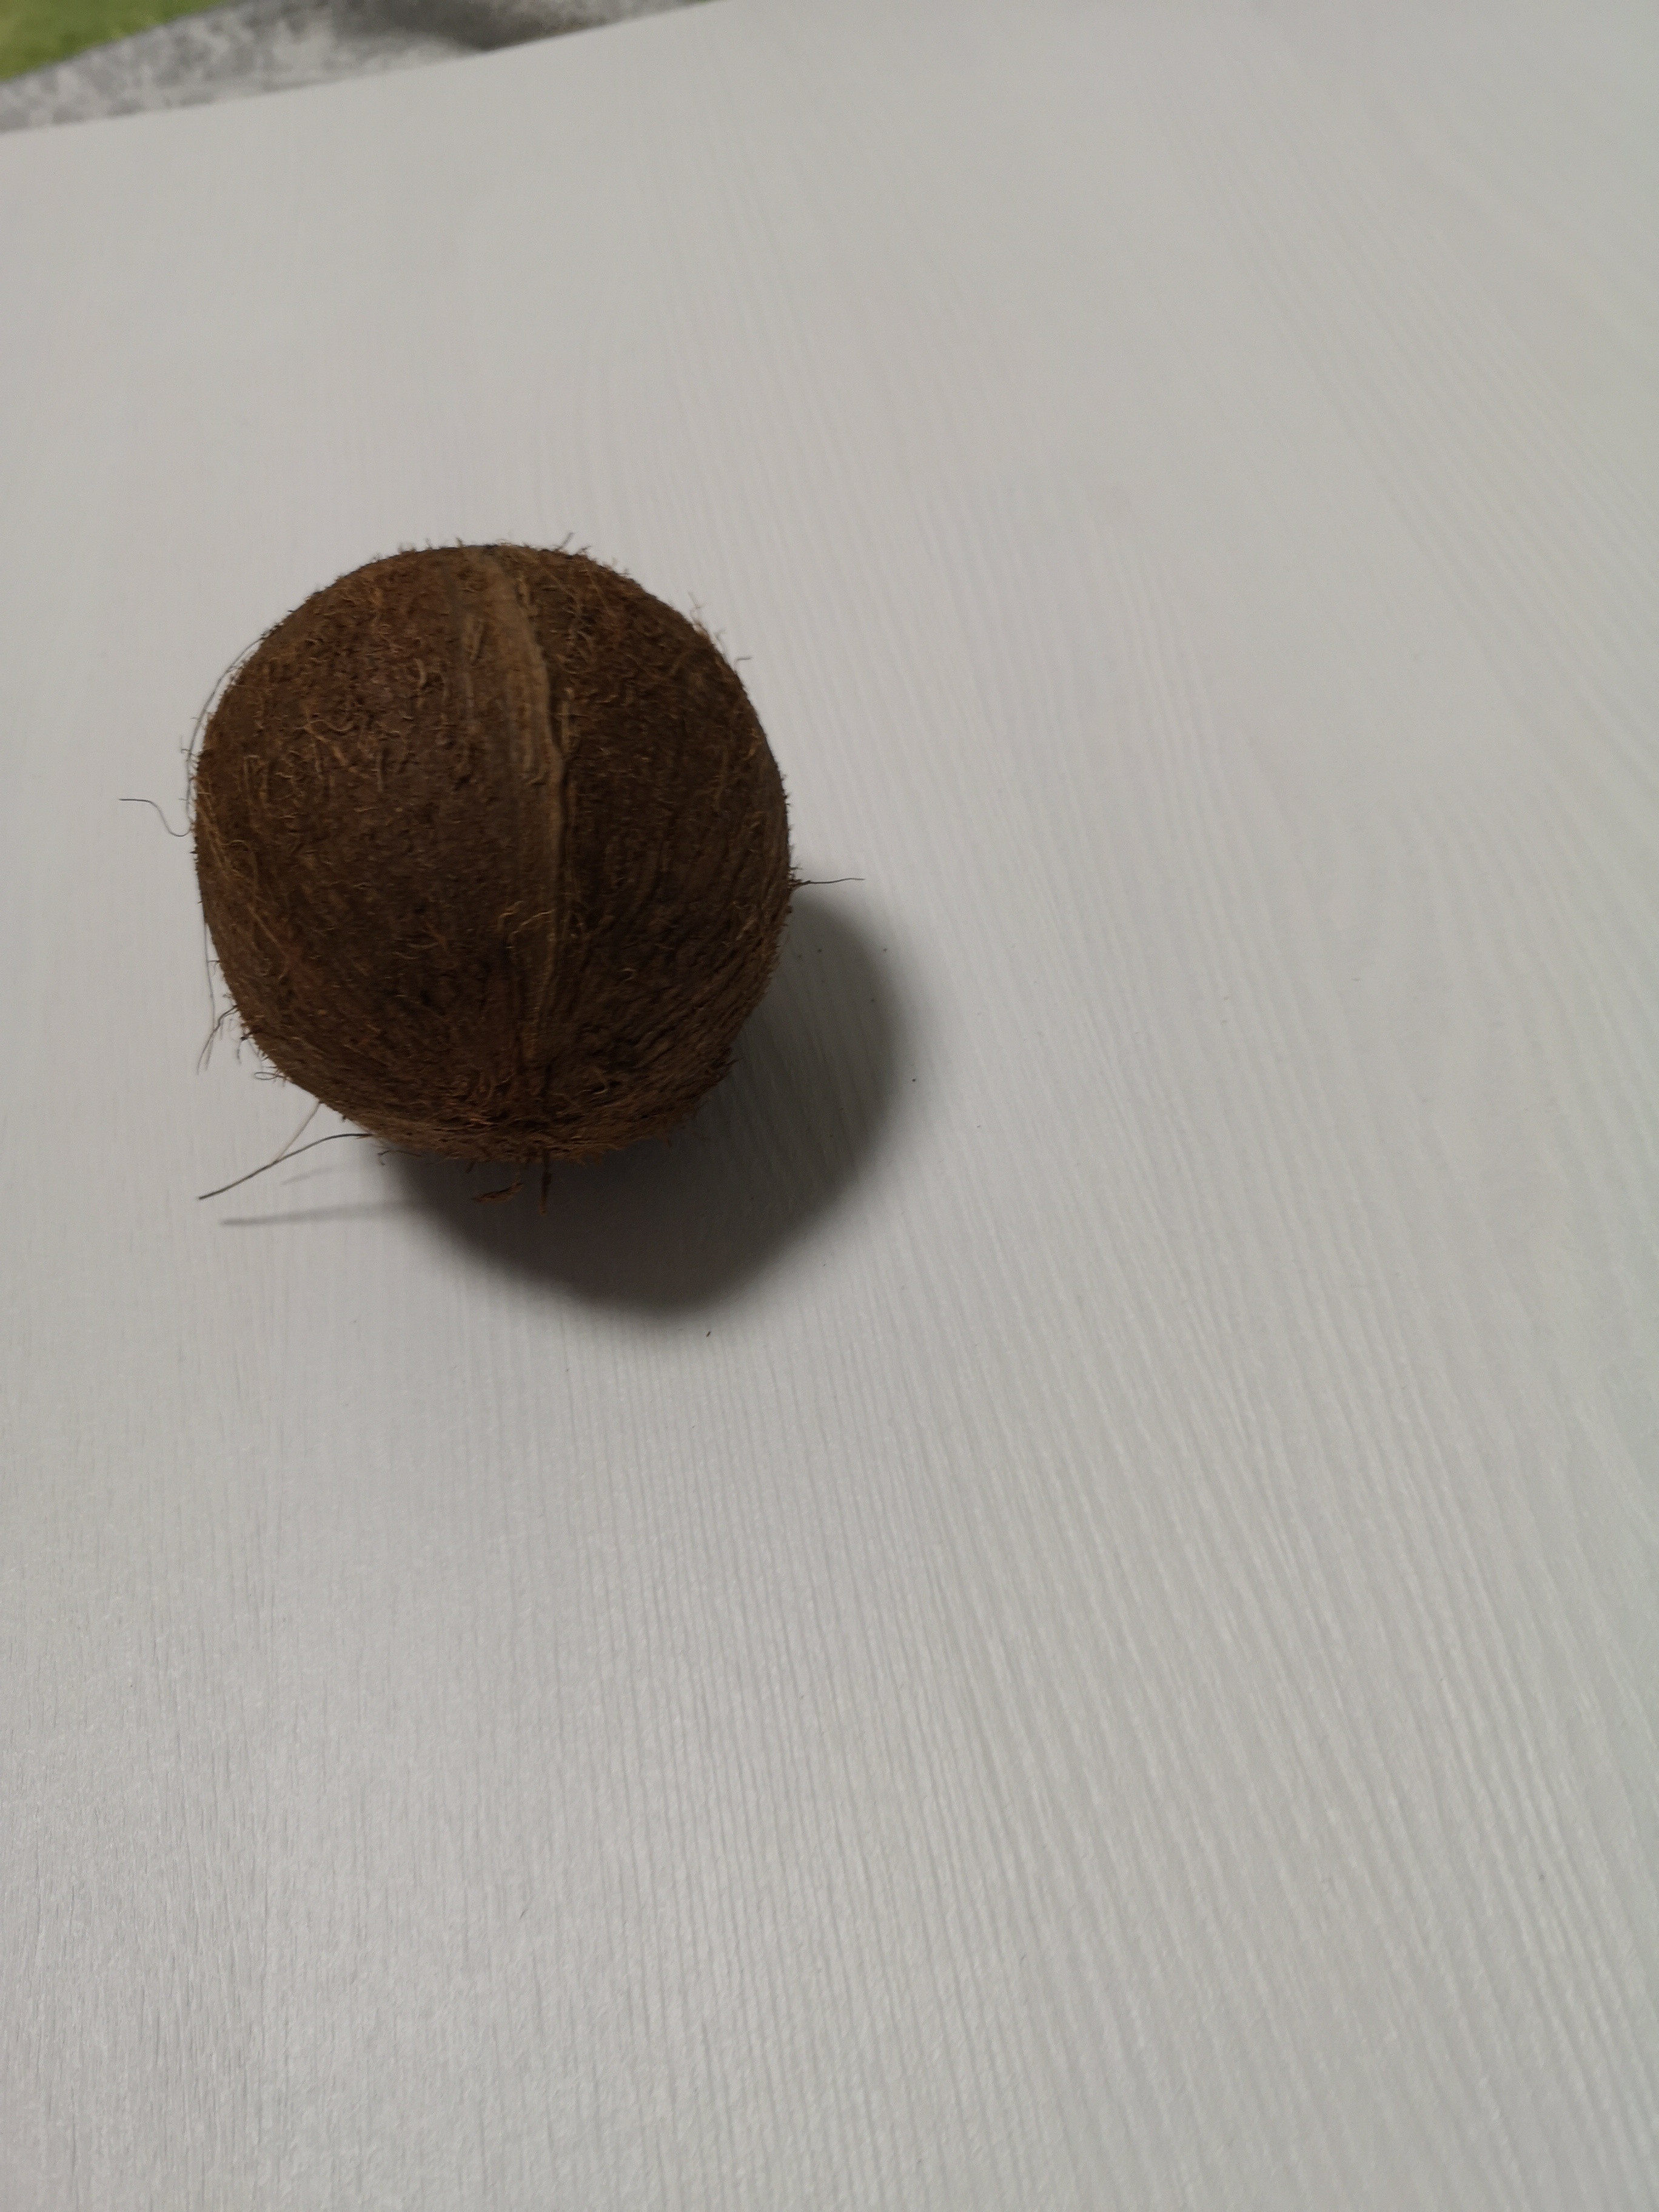coconut: (185, 538, 800, 1169)
